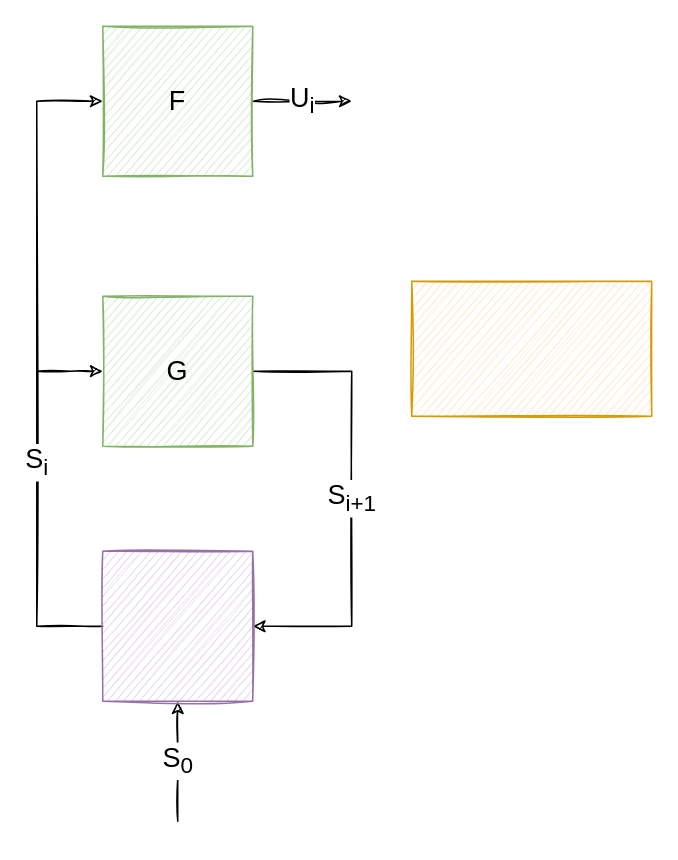
Image size: 678x860. Some labels were removed from this diagram. Here are the shapes that lost their labels. From the top down, the centre of each, then its label:
the point at 531,348: U i =F(S i ) S i+1 =G(S i ) S 0 : seed
the point at 177,625: registro di stato
